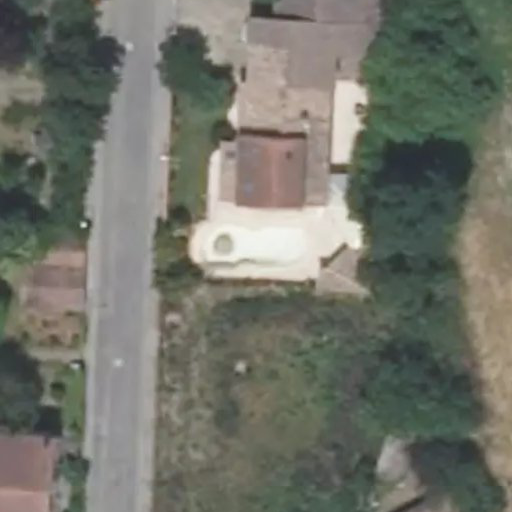pool: (203, 218, 308, 265)
